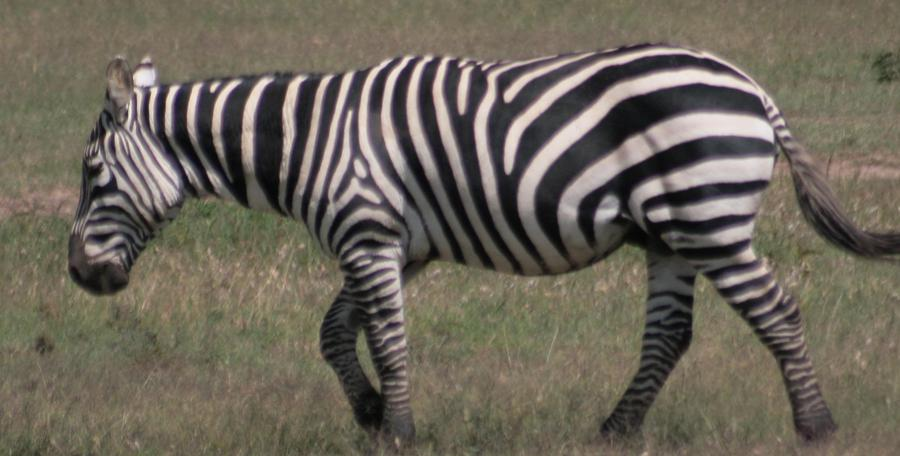zebra_plains: (270, 36, 769, 293)
